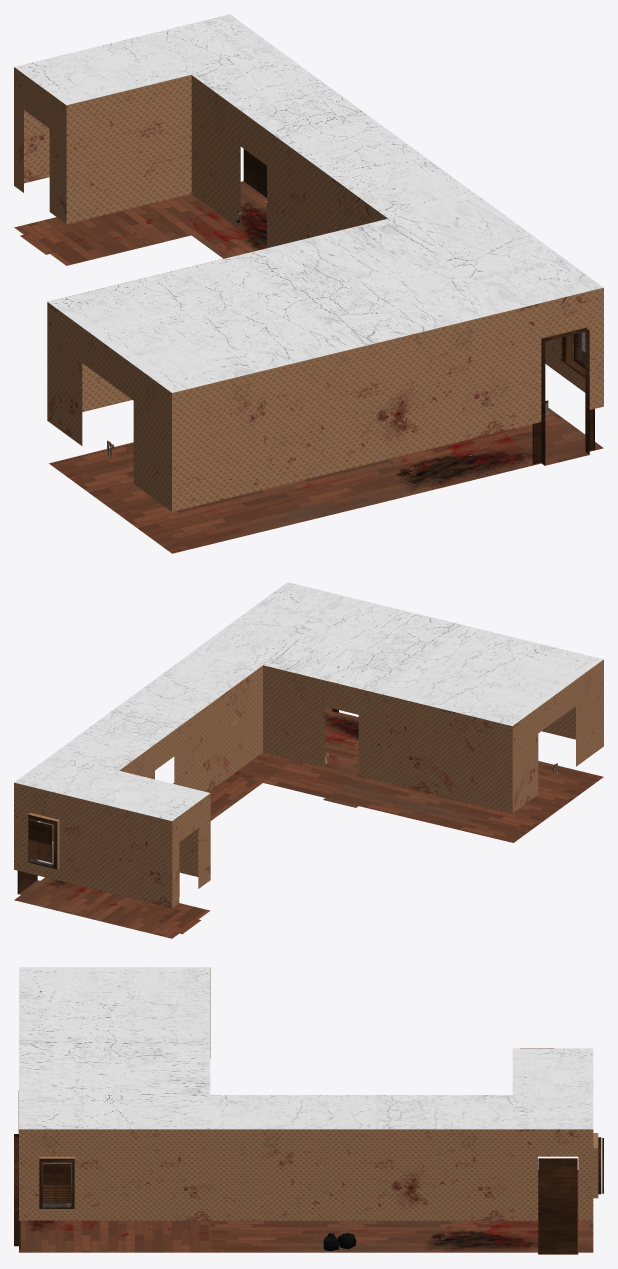
File: frontRoom.gltf
3 renders of one model, top to bottom at view 1: azimuth 30°, elevation 25°; view 2: azimuth 150°, elevation 25°; view 3: azimuth 270°, elevation 25°, orthographic. The views are drawn at different scales.
Visible parts, largest first — view 1: murs.003, murs.002, murs, murs.001, Sol.001, Sol, BP_D.001, P_D; view 2: murs.002, murs.003, murs, murs.001, Sol.001, Sol, Volet, Fenetre; view 3: murs, murs.002, murs.001, murs.003, Sol, Sol.001, P_D, Volet.001, Fenetre.001, BP_D.001, Sacs.
Boxes of the visible parts, bbox=[...] form: murs.003: bbox=[47, 218, 603, 511]; murs.002: bbox=[48, 196, 603, 392]; murs: bbox=[14, 67, 387, 247]; murs.001: bbox=[14, 14, 478, 218]; Sol.001: bbox=[49, 408, 603, 553]; Sol: bbox=[14, 181, 266, 265]; BP_D.001: bbox=[532, 327, 594, 465]; P_D: bbox=[243, 149, 266, 197]; murs.002: bbox=[196, 582, 603, 725]; murs.003: bbox=[263, 659, 603, 813]; murs: bbox=[14, 665, 262, 907]; murs.001: bbox=[14, 649, 262, 820]; Sol.001: bbox=[232, 706, 603, 842]; Sol: bbox=[14, 775, 262, 938]; Volet: bbox=[28, 820, 52, 867]; Fenetre: bbox=[28, 814, 57, 869]; murs: bbox=[210, 1048, 598, 1220]; murs.002: bbox=[19, 967, 210, 1129]; murs.001: bbox=[210, 1048, 593, 1129]; murs.003: bbox=[19, 967, 210, 1220]; Sol: bbox=[210, 1170, 593, 1254]; Sol.001: bbox=[14, 1091, 210, 1252]; P_D: bbox=[538, 1158, 577, 1254]; Volet.001: bbox=[42, 1164, 71, 1208]; Fenetre.001: bbox=[39, 1158, 74, 1208]; BP_D.001: bbox=[14, 1134, 20, 1249]; Sacs: bbox=[323, 1233, 356, 1250].
Size of what is drawn, in the model's own units: 7.81 by 2.78 by 11.7.
Materials: 10 (9 with a texture image).
